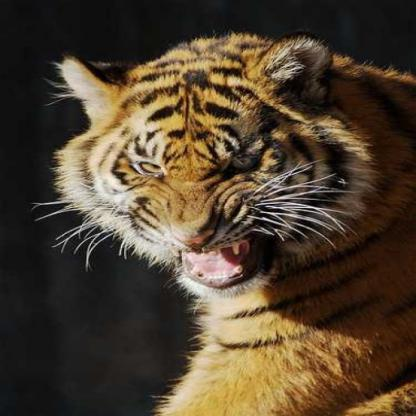Tiger: (25, 15, 415, 415)
